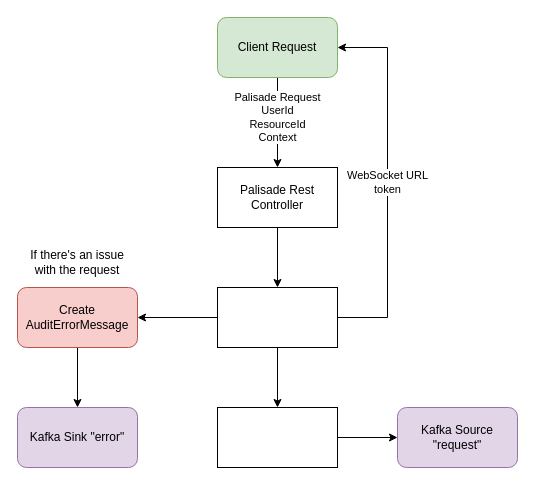
This 535x485 diagram has some shape labels left out. The box of each missing label's shape, as (x1, y1, x2, y2) in pixels:
Create START and END stream markers: (216, 406, 338, 468)
Generate token and create Kafka messages: (216, 286, 338, 348)
